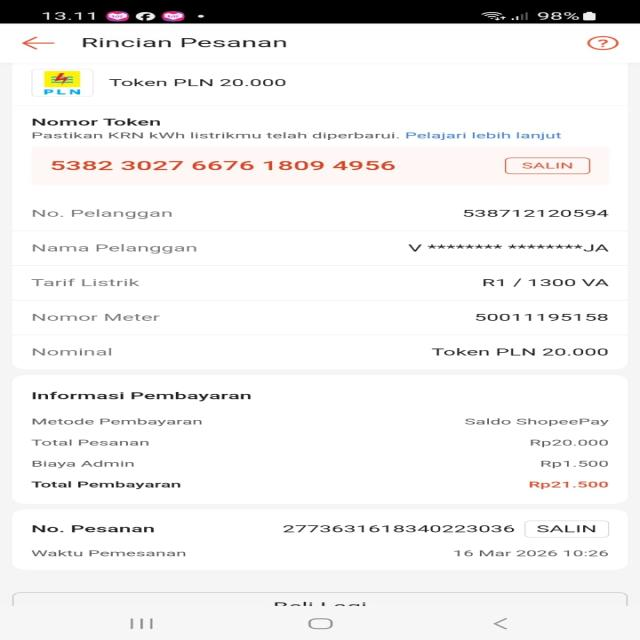date: (450, 547, 610, 560)
store: (103, 76, 297, 92)
total: (30, 479, 615, 491)
